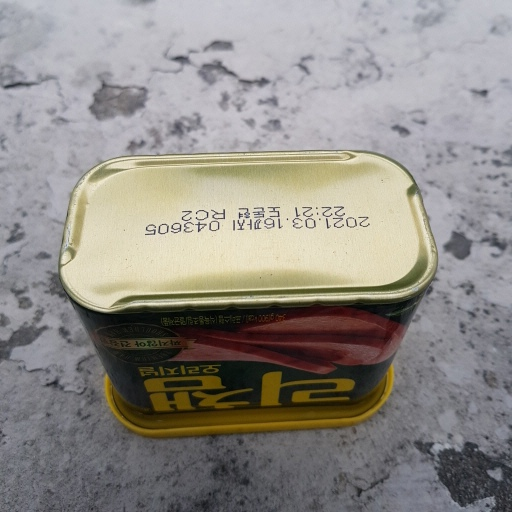Metal_2: (57, 146, 439, 439)
